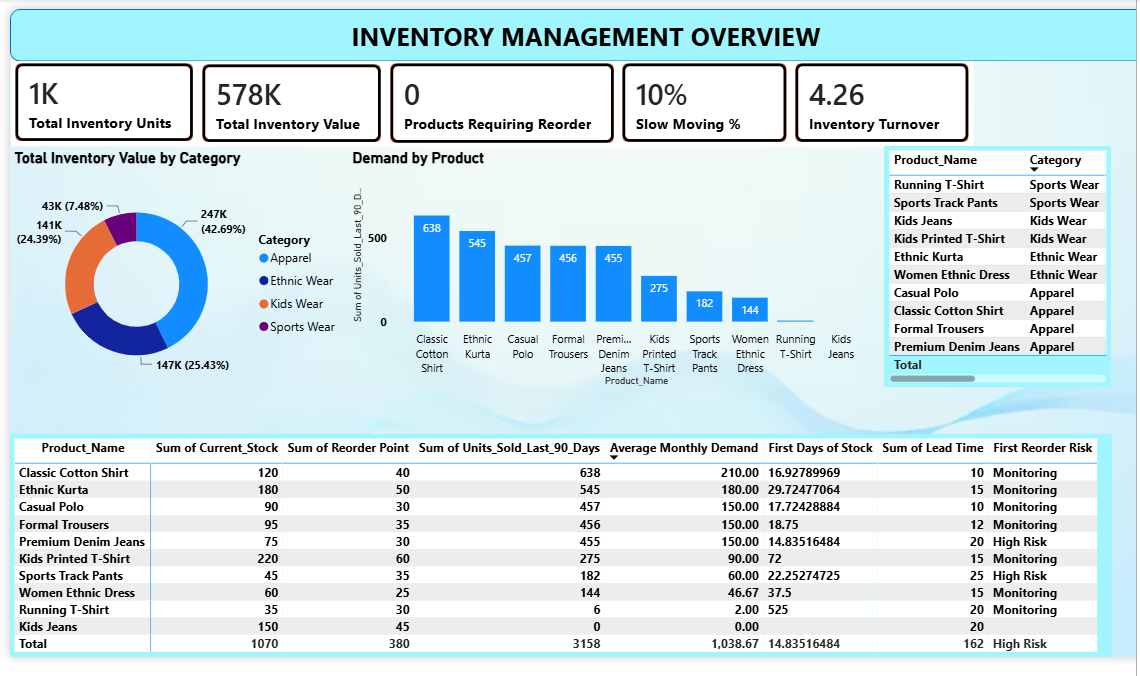

What the dashboard file says about the page in this screenshot:
{"tool":"powerbi","page":{"name":"Page 1","canvas":[1280,720],"ordinal":0},"visuals":[{"type":"cardVisual","fields":{"Data":["Inventory.Total Inventory Value"]},"box":[208.8,56.2,208.8,96.2],"z":0},{"type":"cardVisual","fields":{"Data":["Sales.Total Inventory Units"]},"box":[0.7,56.1,207.3,96.9],"z":1000},{"type":"cardVisual","fields":{"Data":["Products.Slow Moving %"]},"box":[675,55,192.5,97.5],"z":2000},{"type":"cardVisual","fields":{"Data":["Products.Products Requiring Reorder"]},"box":[417.5,55,258,98],"z":3000},{"type":"cardVisual","fields":{"Data":["Inventory.Inventory Turnover"]},"box":[867.5,55,202.5,97.5],"z":4000},{"type":"columnChart","title":"Demand by Product","fields":{"Category":["Products.Product_Name"],"Y":["Sum(Inventory.Units_Sold_Last_90_Days)"]},"box":[375.6,155.6,593.3,267.8],"z":5000},{"type":"donutChart","fields":{"Category":["Products.Category"],"Y":["Inventory.Total Inventory Value"]},"box":[0,155.6,375,270],"z":6000},{"type":"pivotTable","fields":{"Rows":["Products.Product_Name"],"Values":["Sum(Inventory.Current_Stock)","Sum(Inventory.Reorder Point)","Sum(Inventory.Units_Sold_Last_90_Days)","Inventory.Average Monthly Demand","Min(Inventory.Days of Stock)","Sum(Inventory.Lead Time)","Min(Inventory.Reorder Risk)"]},"box":[0,472.5,1223.8,247.5],"z":7000},{"type":"tableEx","fields":{"Values":["Products.Product_Name","Products.Category","Sum(Inventory.Current_Stock)","Inventory.90 Day Units Sold","Inventory.Slow_Moving"]},"box":[971.1,152.2,252.2,267.8],"z":8000},{"type":"shape","title":"Inventory Management Overview","box":[0,0,1280,58.2],"z":9000}]}

Visuals, with their boxes on the page's 1280x720 design canvas (x1, y1, x2, y2). These are canvas units, not pixel positions in the 1140x676 screenshot, which may show the page scaled, cropped or inside an application window:
cardVisual - Inventory.Total Inventory Value: <bbox>209, 56, 418, 152</bbox>
cardVisual - Sales.Total Inventory Units: <bbox>1, 56, 208, 153</bbox>
cardVisual - Products.Slow Moving %: <bbox>675, 55, 868, 152</bbox>
cardVisual - Products.Products Requiring Reorder: <bbox>418, 55, 676, 153</bbox>
cardVisual - Inventory.Inventory Turnover: <bbox>868, 55, 1070, 152</bbox>
"Demand by Product" columnChart: <bbox>376, 156, 969, 423</bbox>
donutChart - Products.Category x Inventory.Total Inventory Value: <bbox>0, 156, 375, 426</bbox>
pivotTable - Products.Product_Name x Sum(Inventory.Current_Stock): <bbox>0, 472, 1224, 720</bbox>
tableEx - Products.Product_Name x Products.Category: <bbox>971, 152, 1223, 420</bbox>
"Inventory Management Overview" shape: <bbox>0, 0, 1280, 58</bbox>
